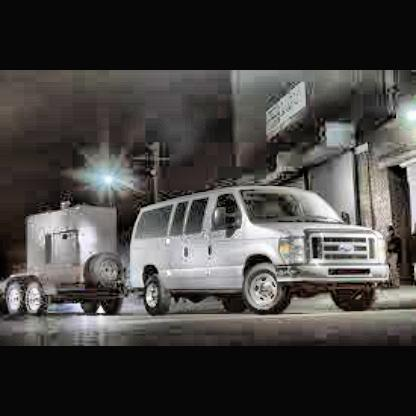Ford E-Series Wagon Van 2012: (128, 183, 397, 323)
